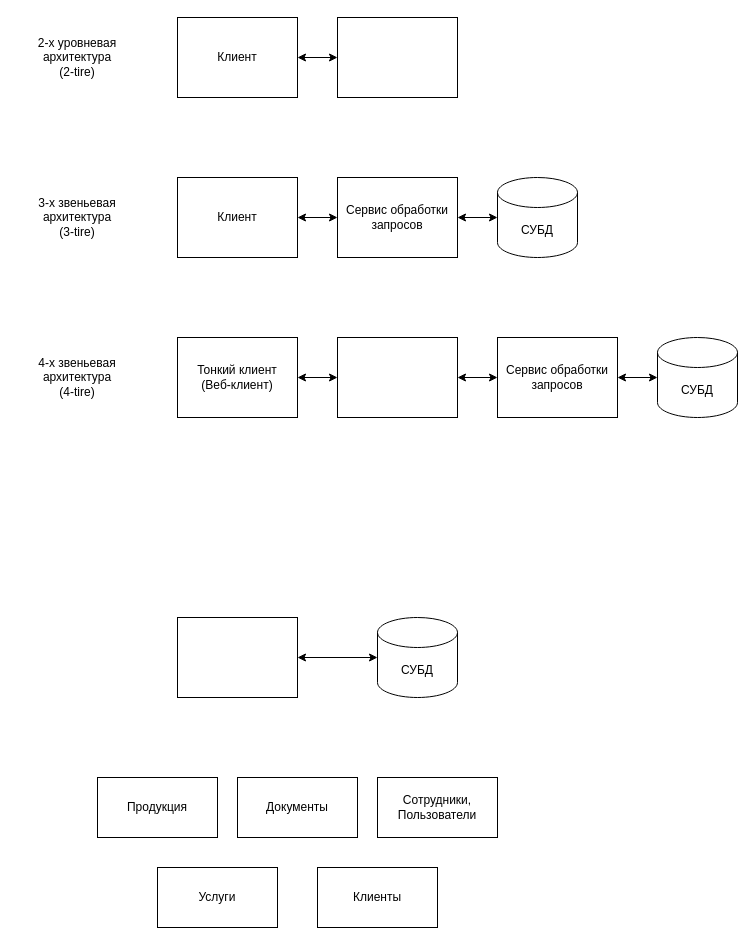
Some shapes in this 755 by 945 pixel diagram are drawn without their labels. Here are the shapes that lost their labels. From the top down, the centre of each, then its label:
At (x=397, y=57): "Сервер".
At (x=397, y=377): "Сервис управления бизнес-логикой системы (Веб-сервер)".
At (x=237, y=657): "Толстый-клиент".
